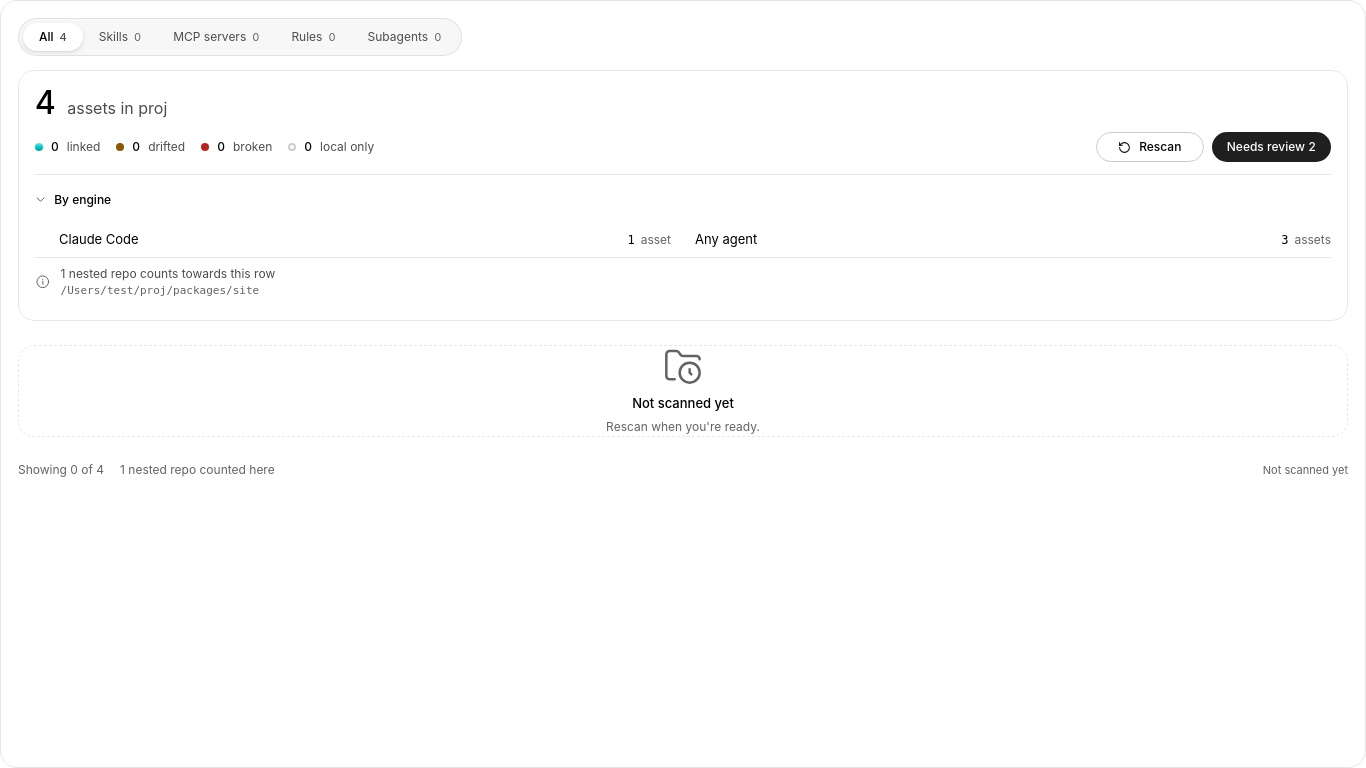
Test: RepoPane hero band and pill › a duplicate in the list withholds 'Show in list', because the filter cannot reach it
The width and height of the screenshot is (1366, 768).
Click the text "Needs review 2".
click(1271, 147)  # box x1=1227 y1=138 x2=1316 y2=156
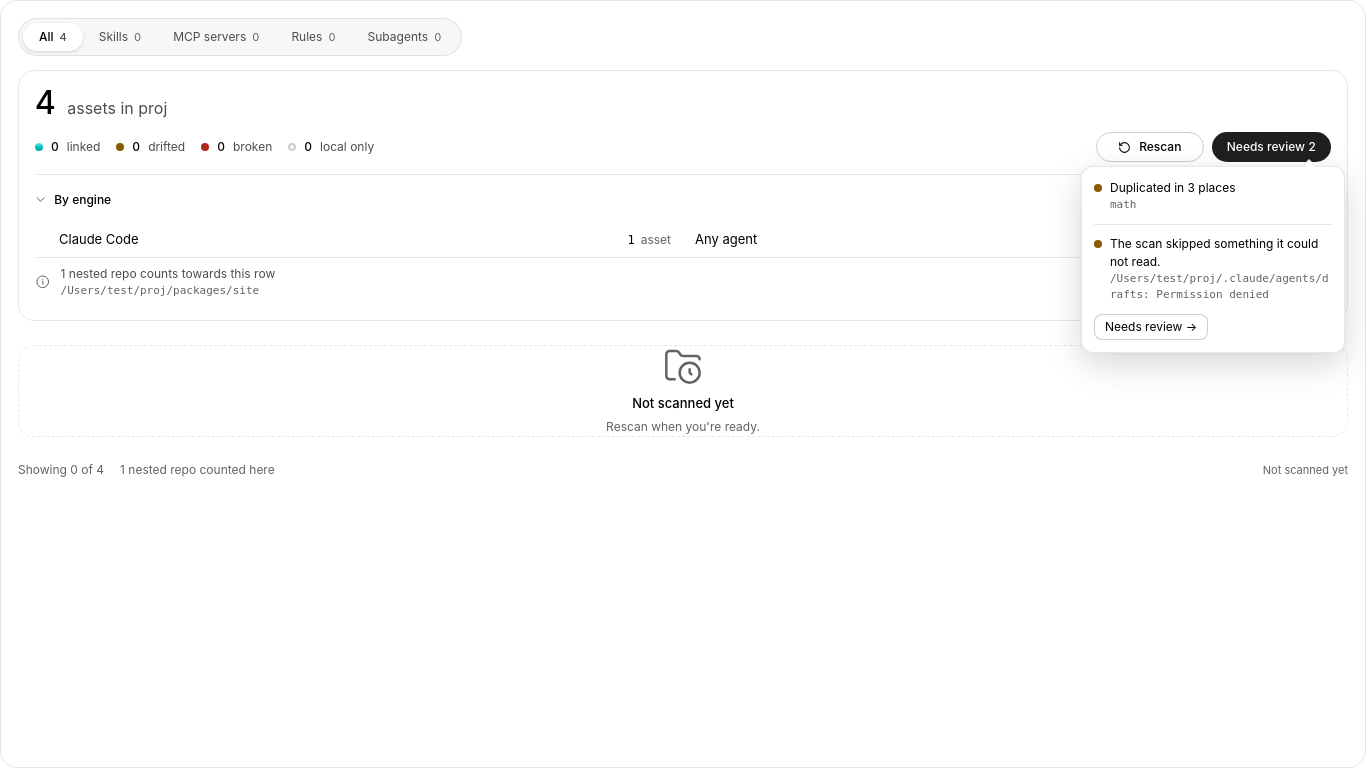
Expected: the button "Needs review →" is shown, x1=1094 y1=314 x2=1208 y2=340
